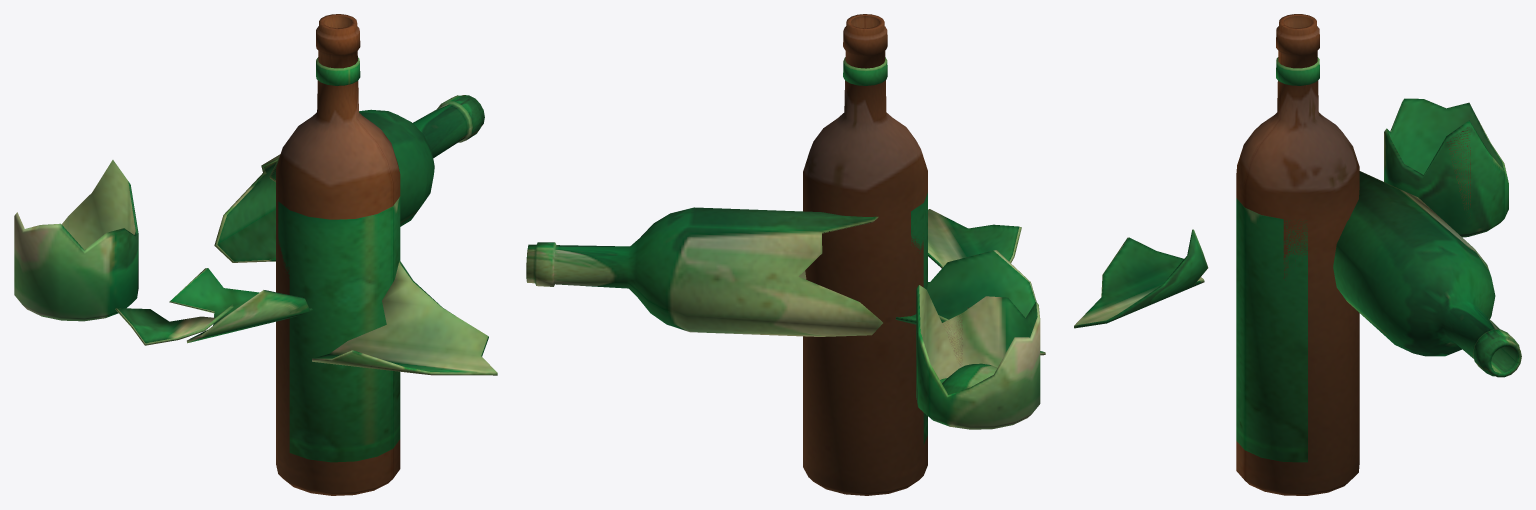
File: trash_glassbottle.fbx
The picture shows the model from 3 angles, left to right: view 1: azimuth 30°, elevation 25°; view 2: azimuth 150°, elevation 25°; view 3: azimuth 270°, elevation 25°; orthographic projection.
Visible parts, largest first — view 1: trash_glassbottle_002, trash_glassbottle_004, trash_glassbottle_003; view 2: trash_glassbottle_002, trash_glassbottle_003, trash_glassbottle_004; view 3: trash_glassbottle_002, trash_glassbottle_003, trash_glassbottle_004.
Boxes of the visible parts, x1,y1,x2,y2 form: trash_glassbottle_002: [14, 95, 497, 375]; trash_glassbottle_004: [278, 57, 400, 462]; trash_glassbottle_003: [276, 14, 400, 495]; trash_glassbottle_002: [526, 207, 1045, 429]; trash_glassbottle_003: [803, 14, 927, 495]; trash_glassbottle_004: [843, 57, 927, 444]; trash_glassbottle_002: [1074, 98, 1521, 377]; trash_glassbottle_003: [1236, 14, 1359, 495]; trash_glassbottle_004: [1236, 57, 1319, 462].
Size of the model in its own units: 34.33 by 27.57 by 30.57.
